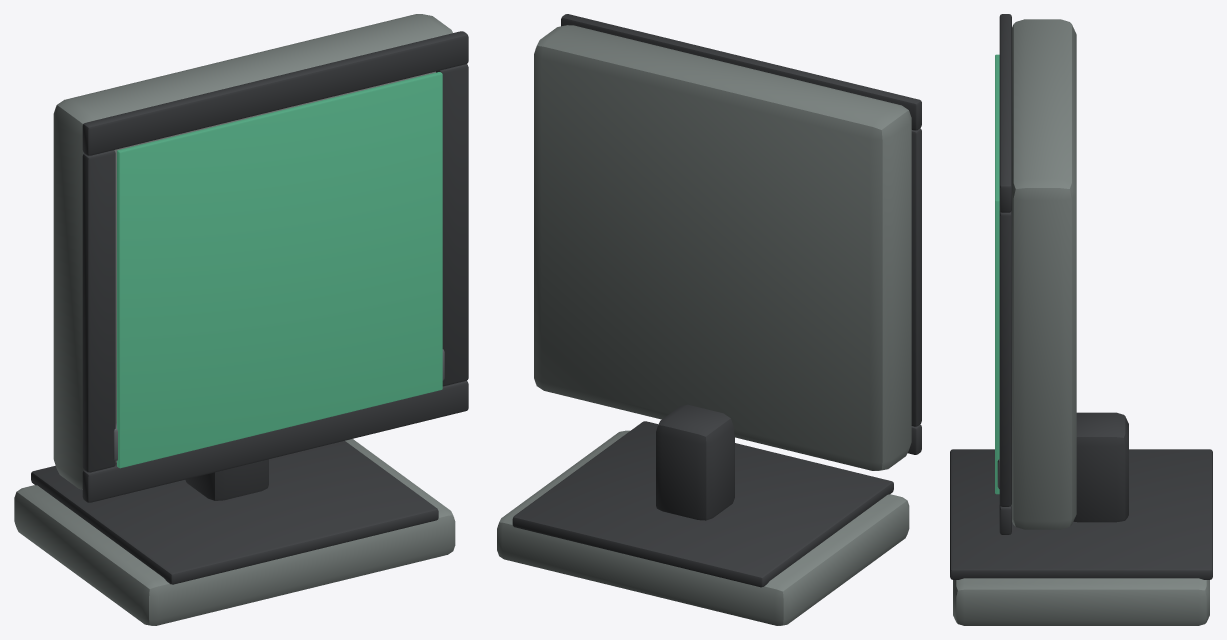
Rendered from pos_terminal_municipal.glb.
3 renders of one model, left to right at view 1: azimuth 30°, elevation 25°; view 2: azimuth 150°, elevation 25°; view 3: azimuth 270°, elevation 25°, orthographic. The views are drawn at different scales.
Visible parts, largest first — view 1: POS_Screen, POS_BaseTrim, POS_Back, POS_Base, POS_TrimTop, POS_TrimBottom, POS_TrimSide_-1, POS_TrimSide_1, POS_Stem; view 2: POS_Back, POS_BaseTrim, POS_Base, POS_Stem, POS_TrimTop, POS_TrimSide_-1; view 3: POS_Back, POS_BaseTrim, POS_Base, POS_Stem, POS_TrimSide_1, POS_TrimTop, POS_Screen.
Boxes of the visible parts, x1,y1,x2,y2 form: POS_Screen: (117, 72, 442, 468); POS_BaseTrim: (31, 440, 438, 584); POS_Back: (53, 14, 452, 489); POS_Base: (14, 439, 455, 625); POS_TrimTop: (82, 31, 468, 155); POS_TrimBottom: (82, 380, 468, 502); POS_TrimSide_-1: (82, 150, 115, 472); POS_TrimSide_1: (436, 64, 468, 386); POS_Stem: (185, 459, 268, 500); POS_Back: (534, 25, 911, 470); POS_BaseTrim: (512, 421, 893, 587); POS_Base: (497, 430, 909, 625); POS_Stem: (656, 404, 734, 520); POS_TrimTop: (561, 14, 921, 130); POS_TrimSide_-1: (911, 128, 921, 426); POS_Back: (1011, 19, 1076, 529); POS_BaseTrim: (950, 449, 1212, 579); POS_Base: (953, 578, 1209, 625); POS_Stem: (1073, 412, 1128, 522); POS_TrimSide_1: (999, 211, 1011, 506); POS_TrimTop: (999, 14, 1011, 212); POS_Screen: (995, 54, 999, 494).
Size of what is drawn, in the model's own units: 0.264 by 0.3276 by 0.1696.
